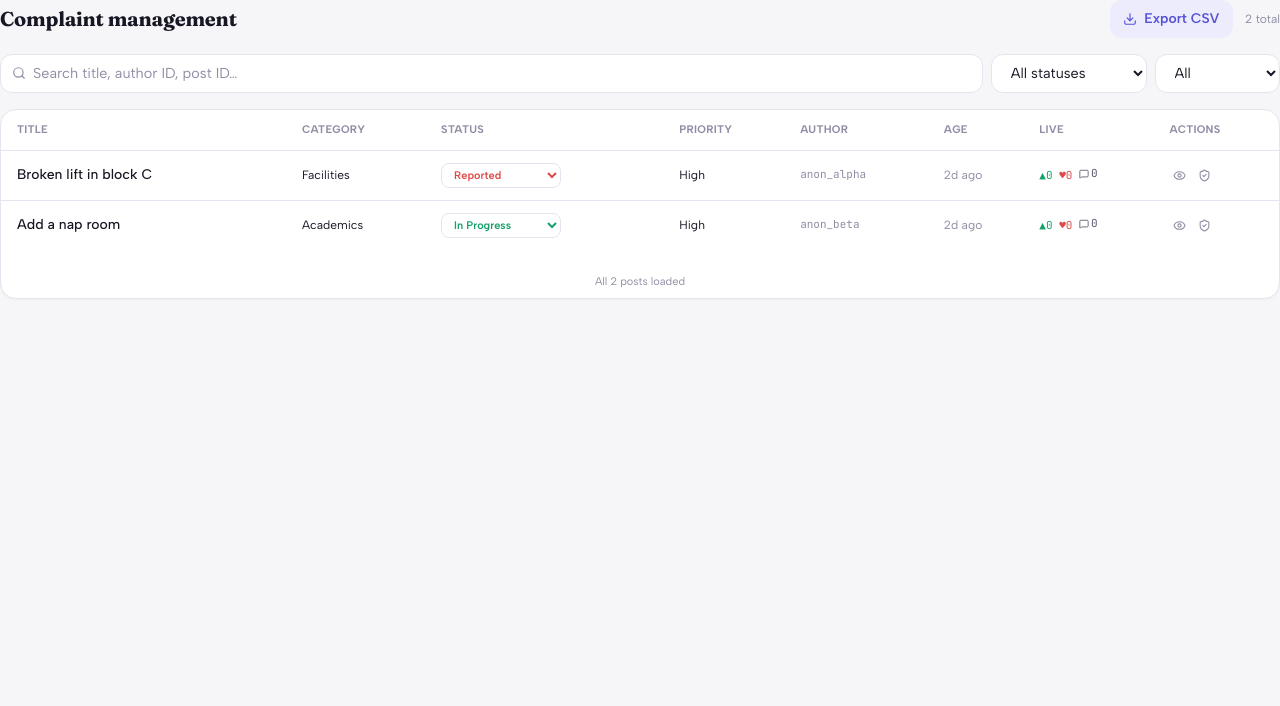
it: PostsTable — detail drawer › opens the detail drawer on row click with edit controls
The image size is (1280, 706).
Click the text "Broken lift in block C" at point(85, 174), box [17,166,152,183]
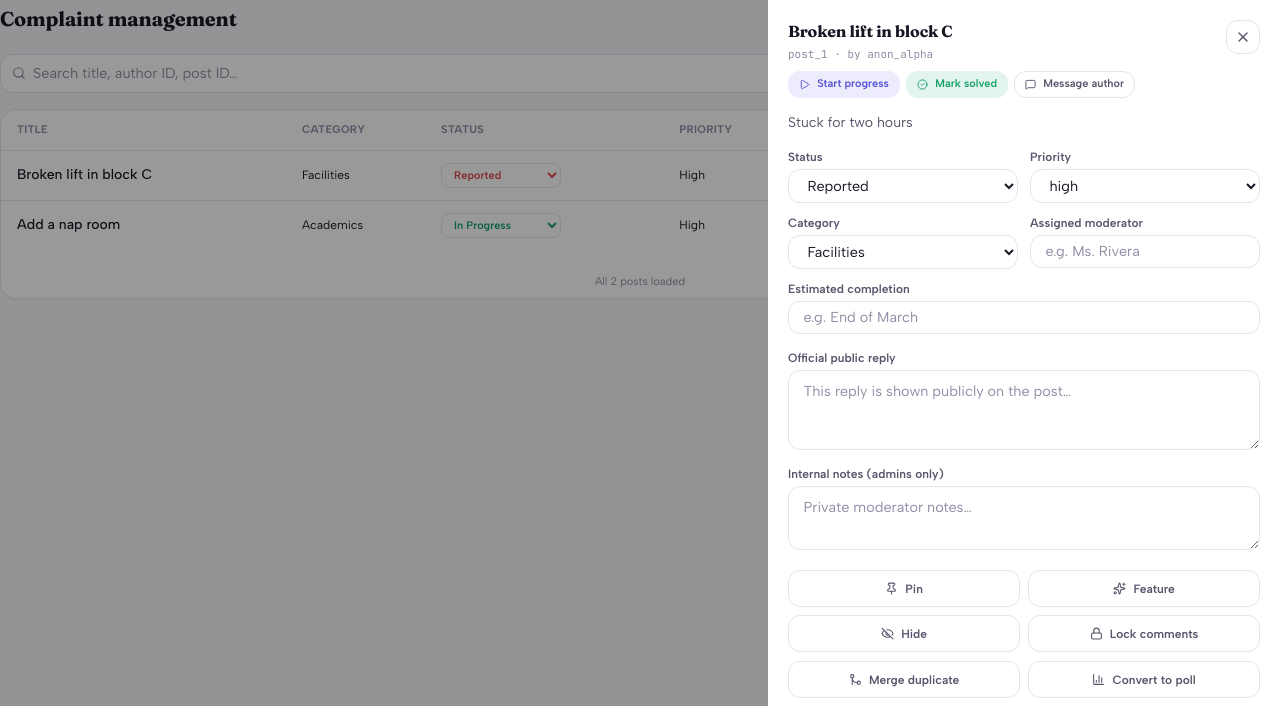
Now the text "post_1 · by anon_alpha" is shown, box [788,47,933,61]
Now the heading "Broken lift in block C" is shown, box [788,21,953,41]
Now the text box with placeholder "Private moderator notes…" is shown, box [788,486,1260,550]
